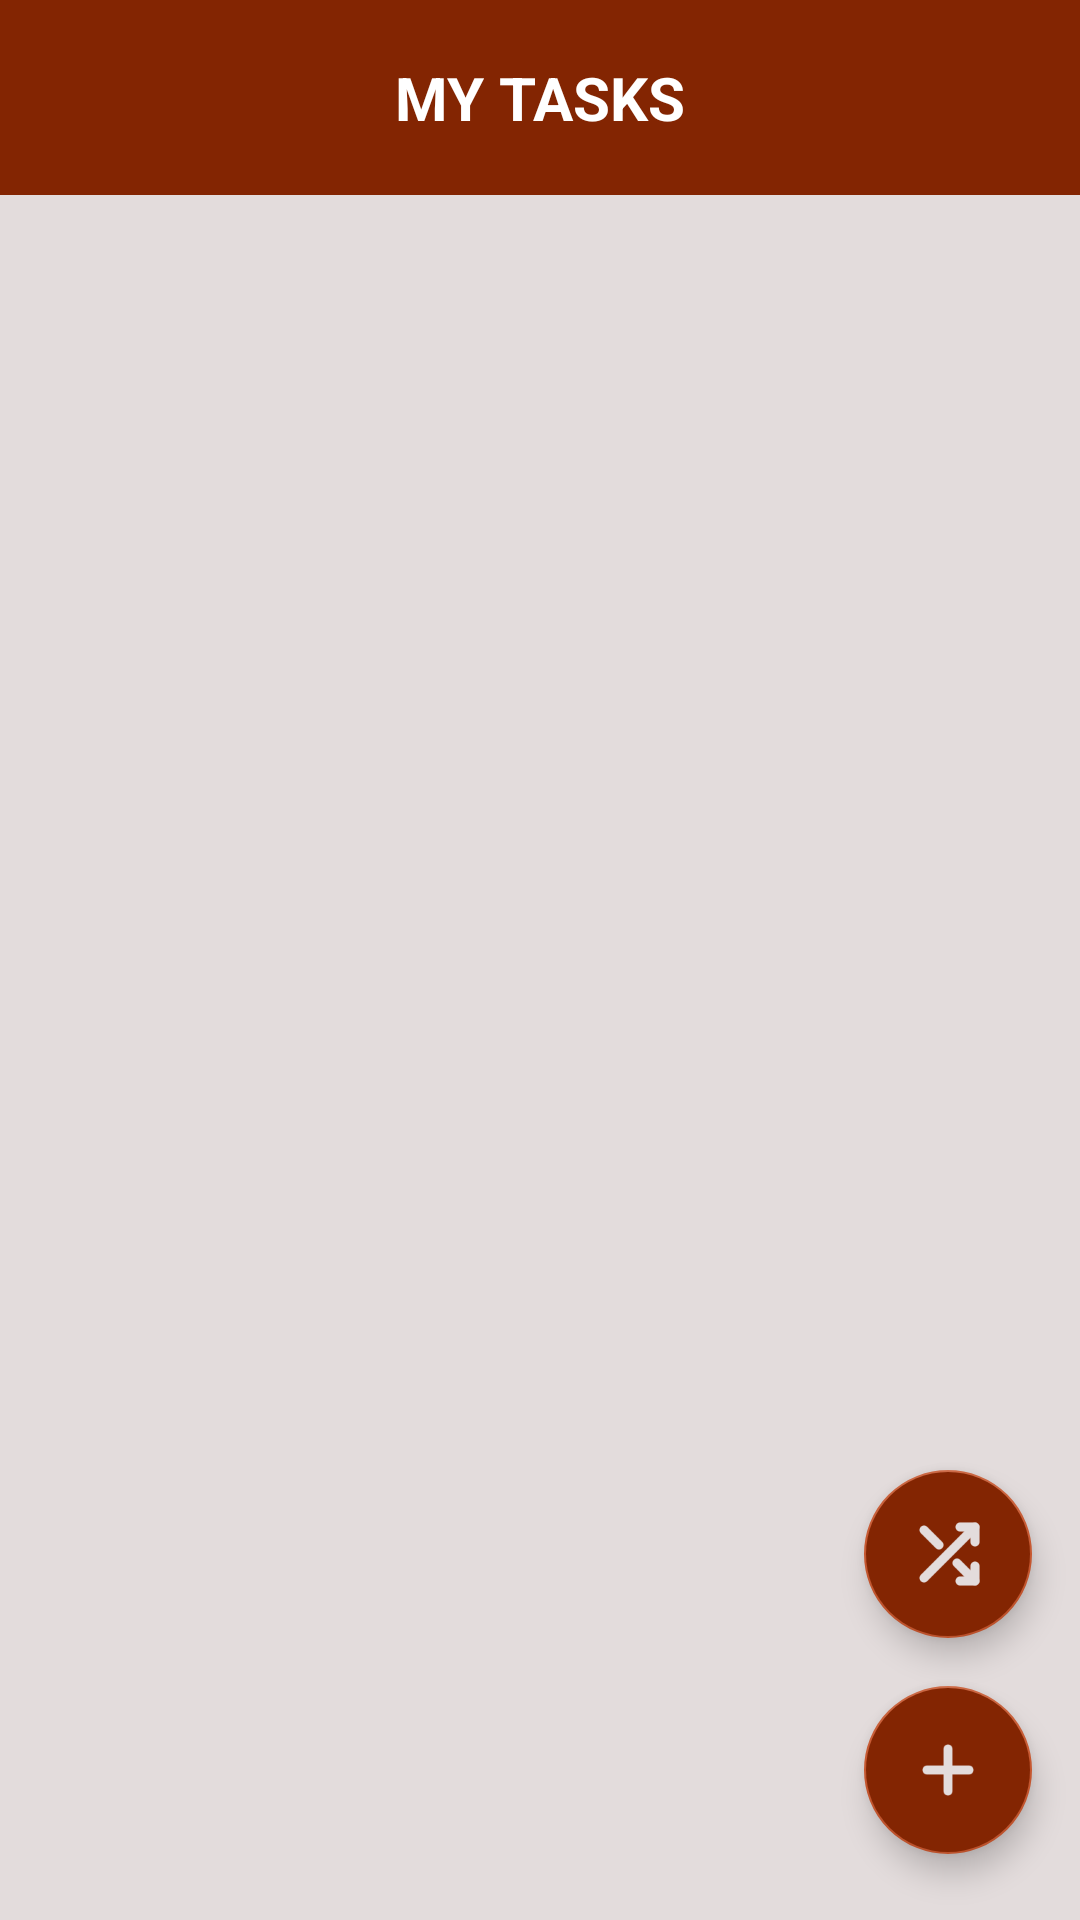

Where icons sit on this 1080*1920 app screen, as (x1, y1, x2, y2):
New task: (864, 1686, 1032, 1854)
